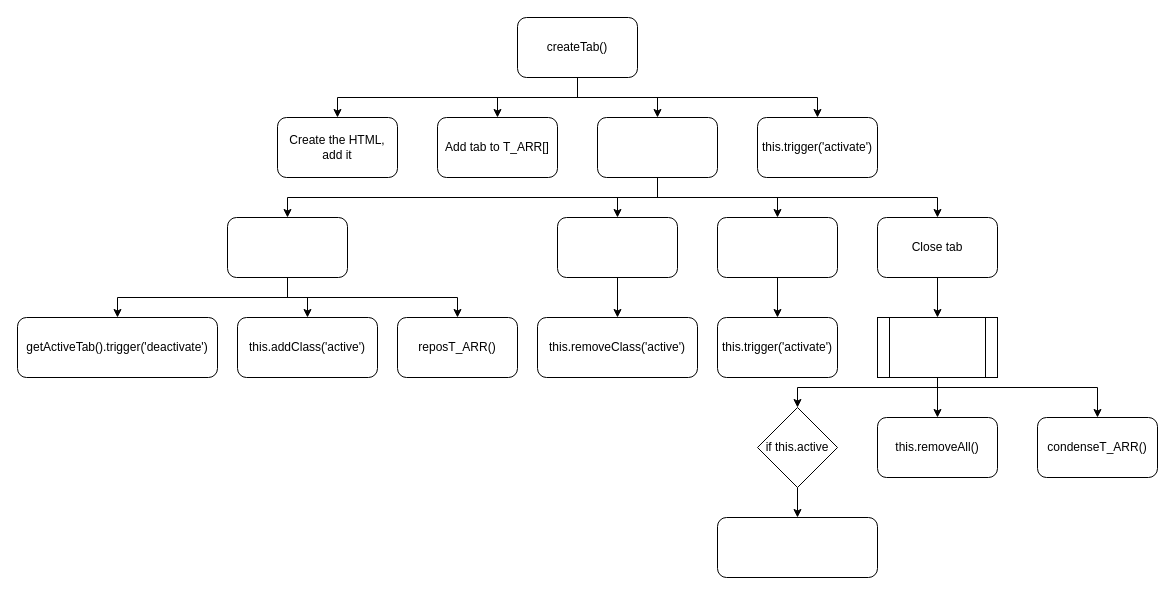
This 1175x595 diagram has some shape labels left out. The centre of each missing label's shape, as x and y in pixels:
Give Events: the point at 657,147
Open tab: the point at 777,247
Save Validation: the point at 937,347
T_ARR[1].trigger('activate');: the point at 797,547
this.on('activate'): the point at 287,247
this.on('deactivate'): the point at 617,247
